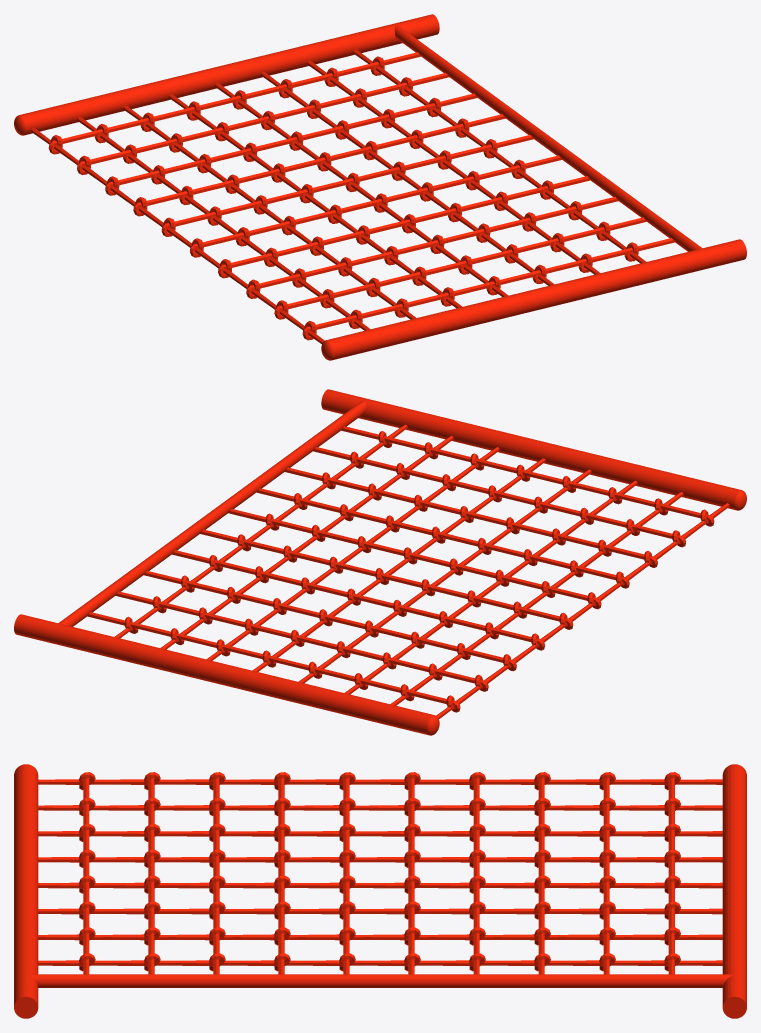
Rendered from barrier Jan 13, 2025.fbx.
The picture shows the model from 3 angles, top to bottom: view 1: azimuth 30°, elevation 25°; view 2: azimuth 150°, elevation 25°; view 3: azimuth 270°, elevation 25°; orthographic projection. The views are drawn at different scales.
Parts seen in each view (by area): view 1: knot.002, cylinder left, cylinder right, cylinder left.001; view 2: knot.002, cylinder right, cylinder left, cylinder left.001; view 3: knot.002, cylinder left.001, cylinder right, cylinder left.
Part boxes in pixels (bbox=[...]): knot.002: bbox=[31, 49, 674, 343]; cylinder left: bbox=[328, 239, 746, 359]; cylinder right: bbox=[20, 14, 439, 134]; cylinder left.001: bbox=[394, 25, 702, 251]; knot.002: bbox=[87, 424, 729, 718]; cylinder right: bbox=[14, 614, 432, 734]; cylinder left: bbox=[321, 389, 740, 509]; cylinder left.001: bbox=[58, 400, 366, 626]; knot.002: bbox=[38, 772, 722, 974]; cylinder left.001: bbox=[27, 974, 733, 987]; cylinder right: bbox=[722, 765, 746, 1018]; cylinder left: bbox=[14, 765, 38, 1018].
Size of the model in its own units: 898 by 39.2 by 1182.
